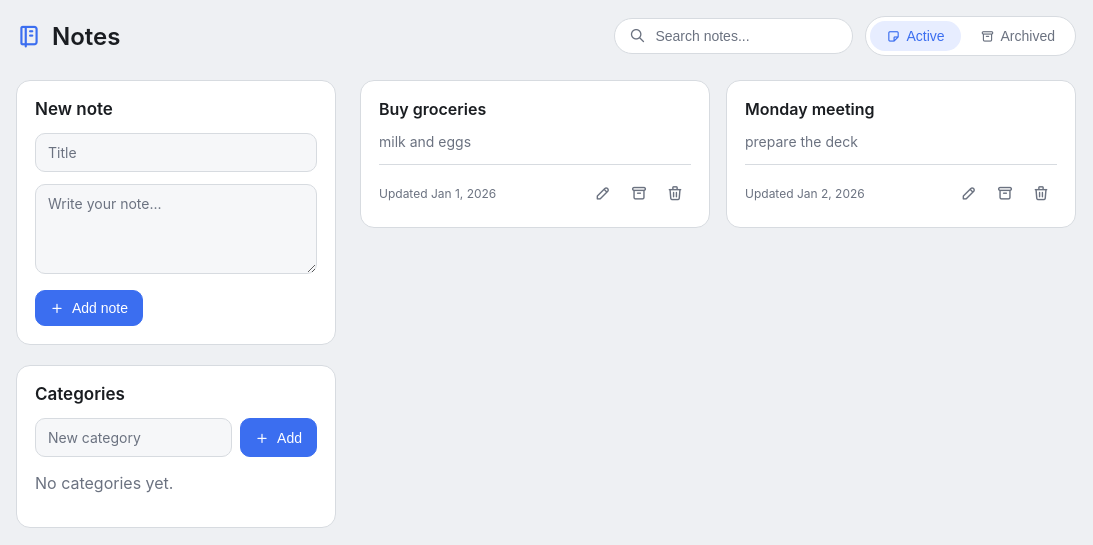
Test case: App search › shows an empty-state message when nothing matches
Expected: the heading "Buy groceries" is shown, x1=379 y1=99 x2=486 y2=119
Type "zzz-nomatch" into the field labelled "Search notes" at point(746, 36), box x1=653 y1=27 x2=838 y2=45
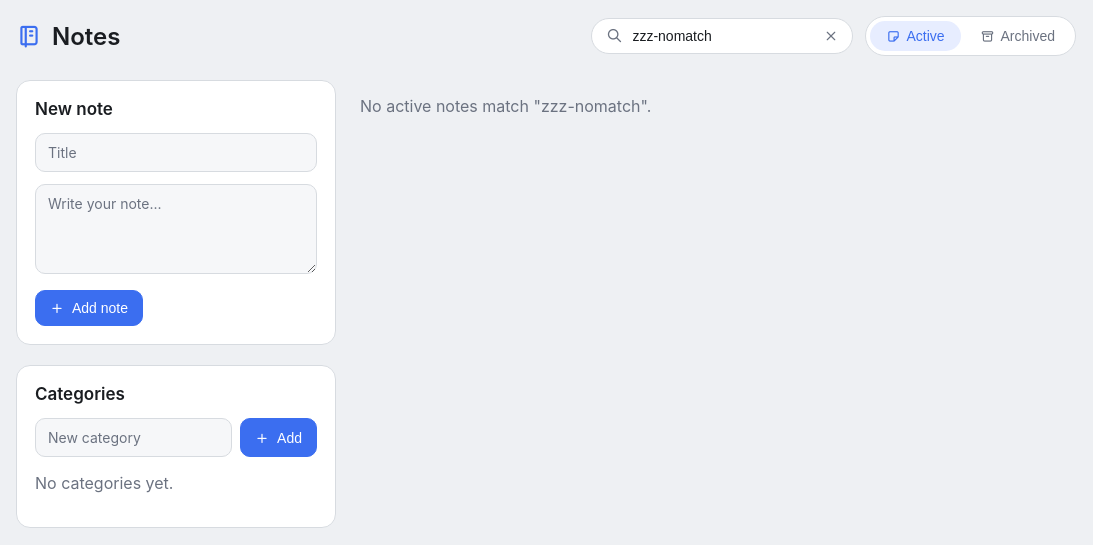
Result: the text "No active notes match \"zzz-nomatch\"." is shown at x1=360 y1=96 x2=651 y2=116
